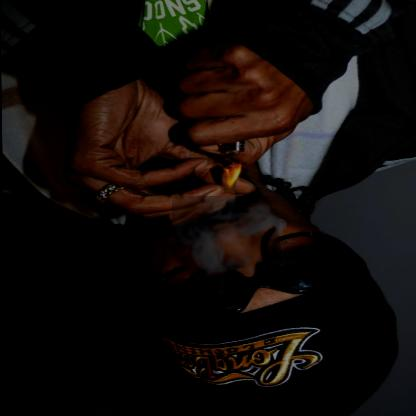smoke: (171, 196, 279, 276)
